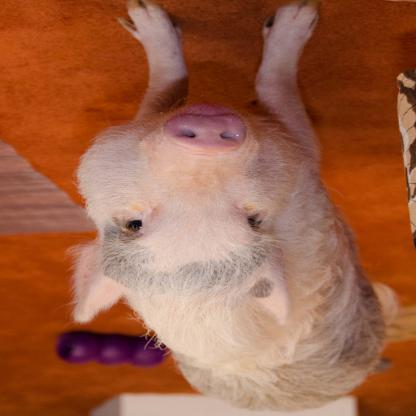boar: (58, 1, 391, 414)
